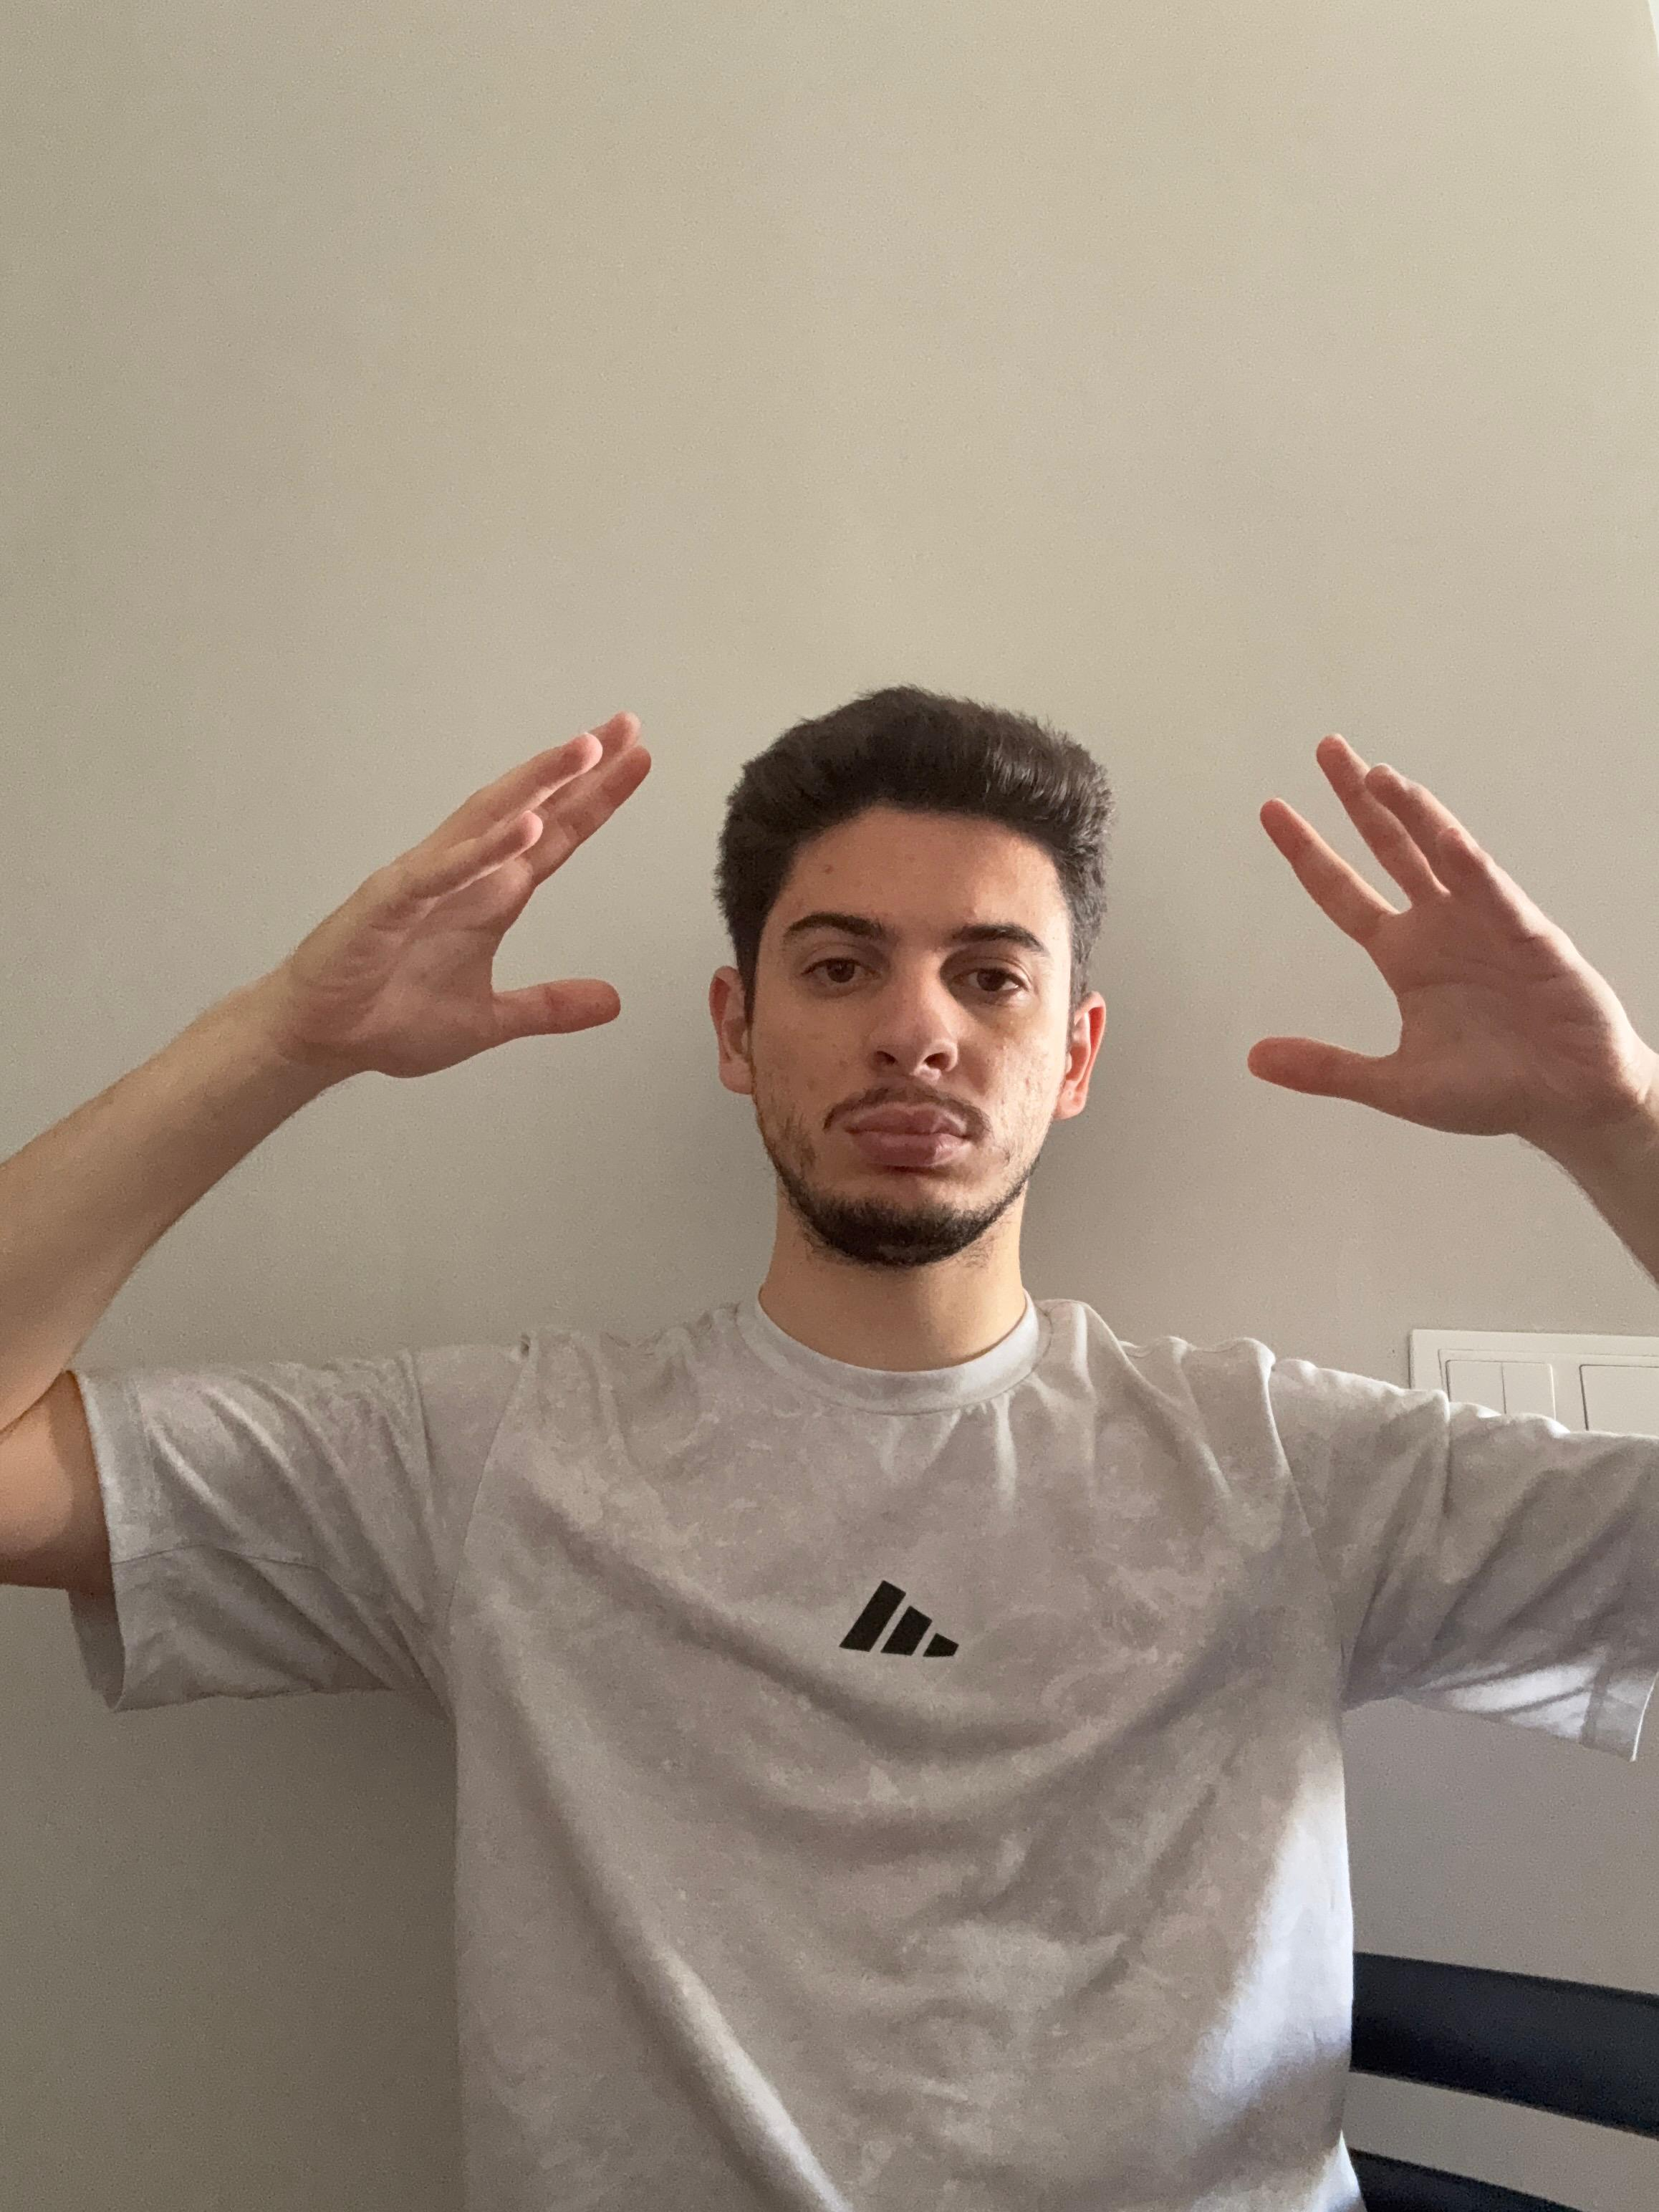explode: (5, 681, 1654, 2203)
